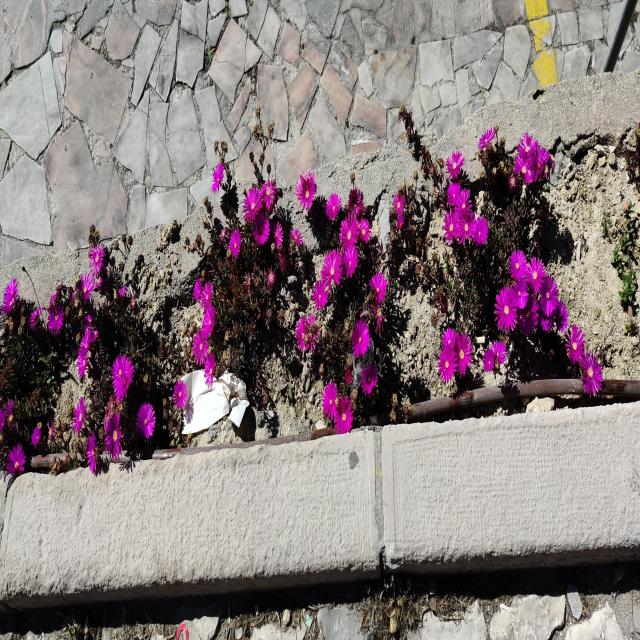litter: (182, 366, 250, 438)
